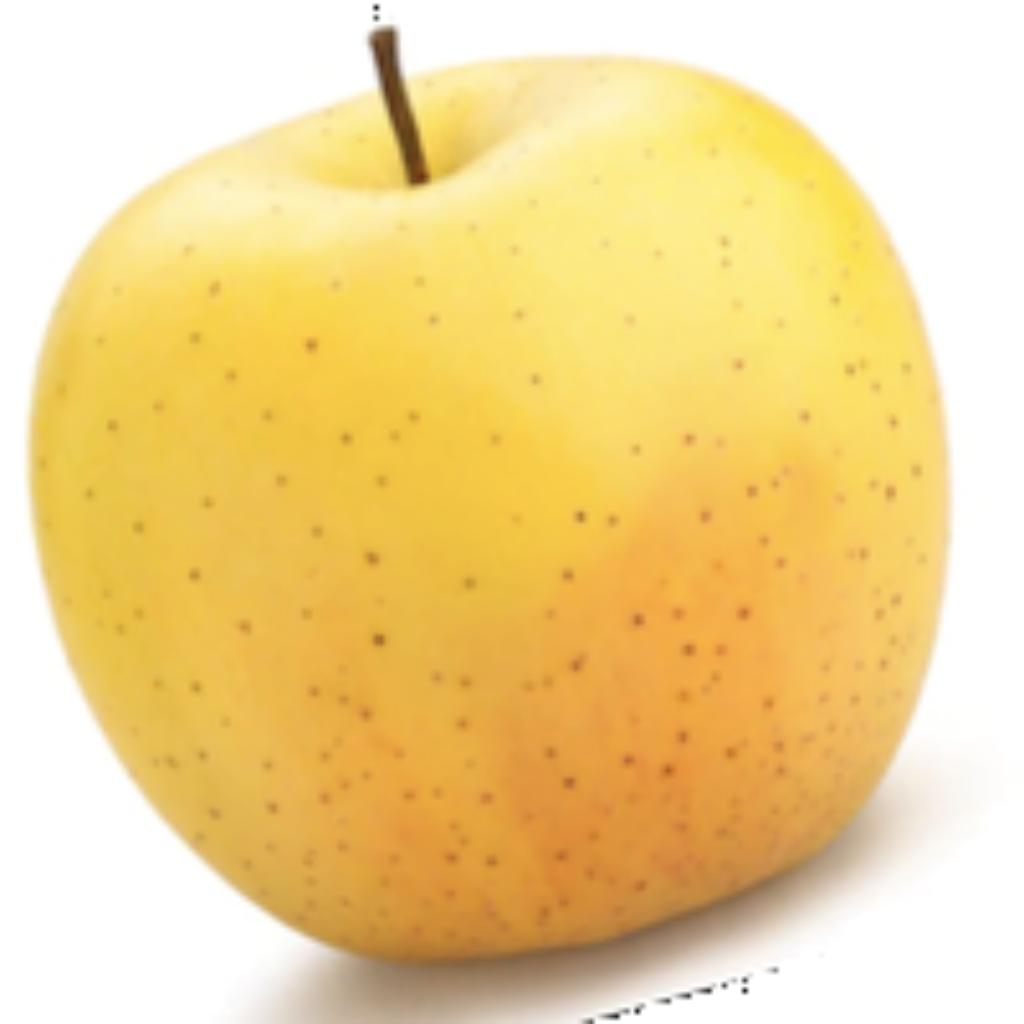apple: (20, 0, 952, 1019)
